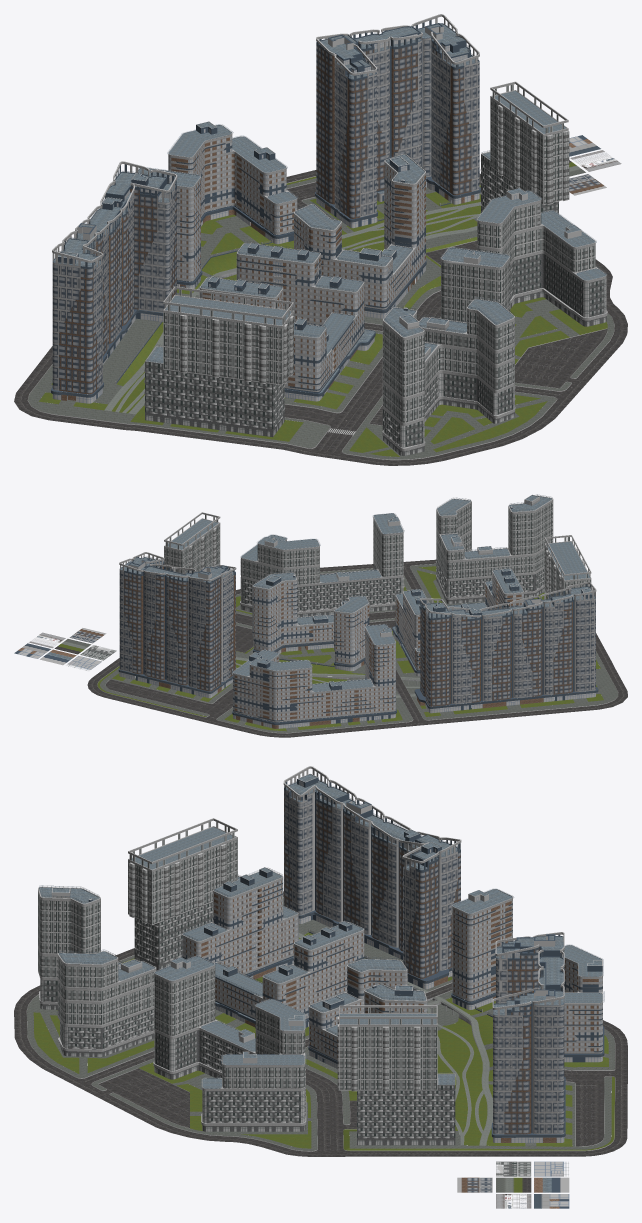
The model's file is city.glb.
3 renders of one model, top to bottom at view 1: azimuth 30°, elevation 25°; view 2: azimuth 150°, elevation 25°; view 3: azimuth 270°, elevation 25°, orthographic. The views are drawn at different scales.
Visible parts, largest first — view 1: Plane.057_4_0, bridge_5_0, Cube.192_7_0, Plane.057_3_0, Plane.057_2_0, Plane.057_1_0, dec.001_6_0; view 2: Cube.192_7_0, Plane.057_3_0, Plane.057_2_0, bridge_5_0, Plane.057_4_0, Plane.057_1_0, dec.001_6_0; view 3: Plane.057_4_0, bridge_5_0, Plane.057_3_0, Cube.192_7_0, Plane.057_2_0, Plane.057_1_0, dec.001_6_0.
Boxes of the visible parts, x1=… form: Plane.057_4_0: x1=144, y1=84, x2=606, y2=455; bridge_5_0: x1=14, y1=160, x2=627, y2=465; Cube.192_7_0: x1=52, y1=39, x2=606, y2=394; Plane.057_3_0: x1=51, y1=14, x2=607, y2=451; Plane.057_2_0: x1=51, y1=14, x2=607, y2=450; Plane.057_1_0: x1=52, y1=33, x2=607, y2=403; dec.001_6_0: x1=22, y1=150, x2=621, y2=460; Cube.192_7_0: x1=69, y1=564, x2=595, y2=706; Plane.057_3_0: x1=14, y1=499, x2=598, y2=725; Plane.057_2_0: x1=40, y1=494, x2=598, y2=728; bridge_5_0: x1=54, y1=559, x2=627, y2=737; Plane.057_4_0: x1=80, y1=501, x2=591, y2=681; Plane.057_1_0: x1=66, y1=494, x2=595, y2=728; dec.001_6_0: x1=29, y1=563, x2=618, y2=733; Plane.057_4_0: x1=38, y1=821, x2=531, y2=1176; bridge_5_0: x1=14, y1=891, x2=627, y2=1192; Plane.057_3_0: x1=38, y1=766, x2=604, y2=1208; Cube.192_7_0: x1=284, y1=790, x2=564, y2=1192; Plane.057_2_0: x1=38, y1=766, x2=604, y2=1192; Plane.057_1_0: x1=39, y1=779, x2=604, y2=1176; dec.001_6_0: x1=20, y1=897, x2=624, y2=1208.
Size of the model in its own units: 49370 by 11750 by 40059.
Materials: 7 (7 with a texture image).
